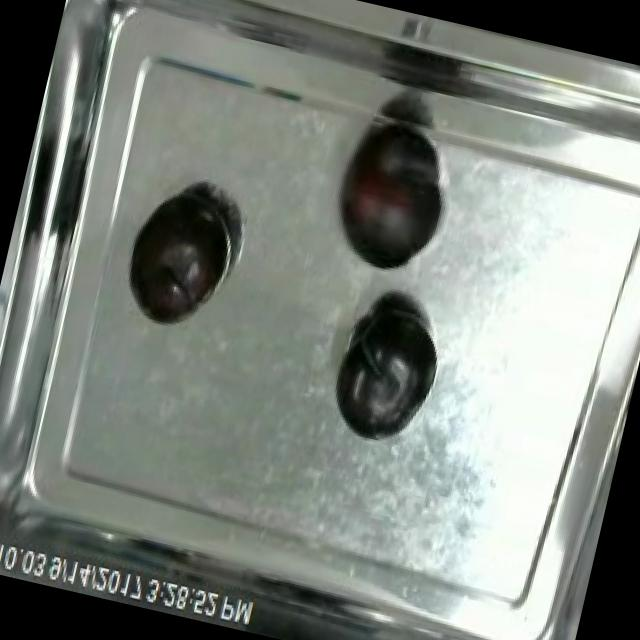Fruit: (318, 286, 456, 458), (319, 132, 458, 286), (114, 180, 238, 337)
